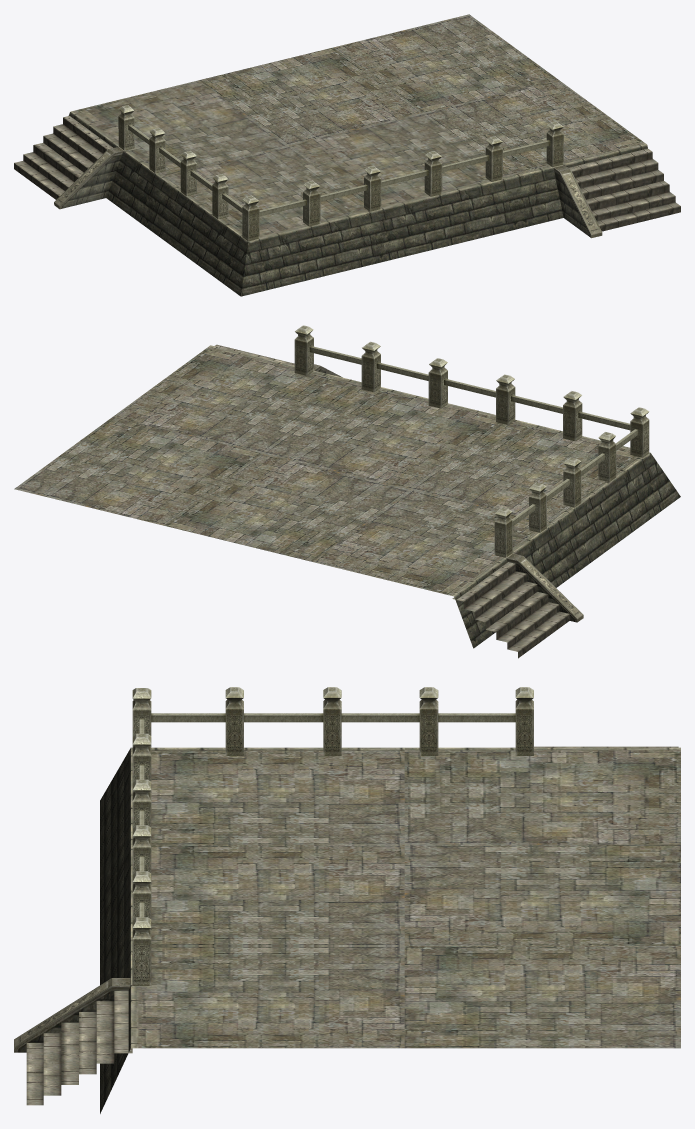
Rendered from ob-tower01_01.fbx.
3 views of the same model, one above another, from view 1: azimuth 30°, elevation 25°; view 2: azimuth 150°, elevation 25°; view 3: azimuth 270°, elevation 25° (orthographic). The views are drawn at different scales.
Visible parts, largest first — view 1: ob-013-tower01_04; view 2: ob-013-tower01_04; view 3: ob-013-tower01_04.
Boxes of the visible parts, left/top/right/bottom form: ob-013-tower01_04: left=14, top=14, right=680, bottom=296; ob-013-tower01_04: left=14, top=325, right=680, bottom=658; ob-013-tower01_04: left=14, top=687, right=680, bottom=1113.
Bounding box in the file's own units: 42.51 × 7.32 × 34.34.
